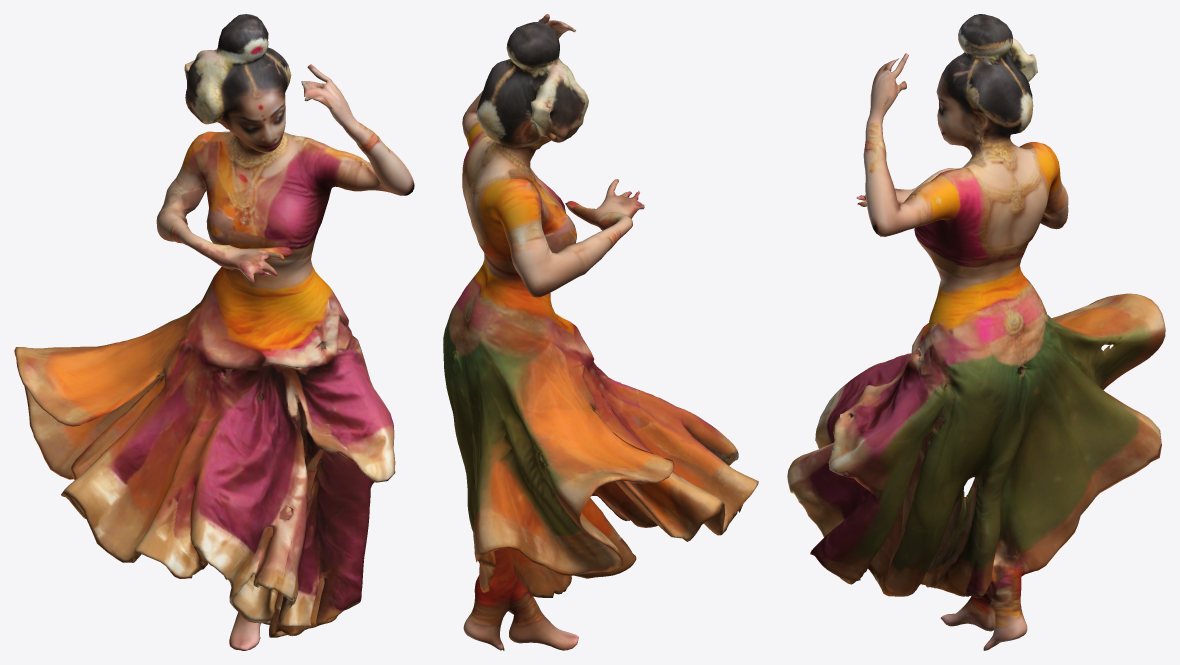
3 views of the same model, side by side, from view 1: azimuth 30°, elevation 25°; view 2: azimuth 150°, elevation 25°; view 3: azimuth 270°, elevation 25° (orthographic).
Parts seen in each view (by area): view 1: Mesh_0; view 2: Mesh_0; view 3: Mesh_0.
Boxes of the visible parts, left/top/right/bottom form: Mesh_0: left=14, top=14, right=414, bottom=650; Mesh_0: left=443, top=14, right=758, bottom=650; Mesh_0: left=787, top=14, right=1165, bottom=650.
Bounding box in the file's own units: 1.01 × 1.99 × 1.1.
1 material, 1 textured.
